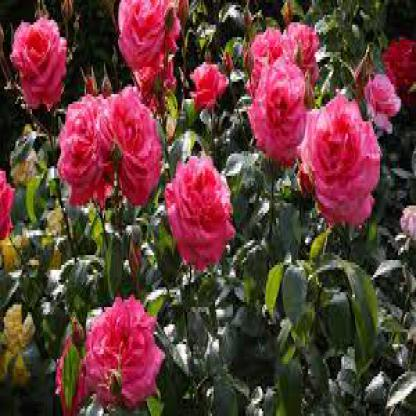Rose-Mawar: (244, 1, 416, 224), (17, 1, 182, 192), (163, 53, 234, 276), (58, 283, 165, 397)
